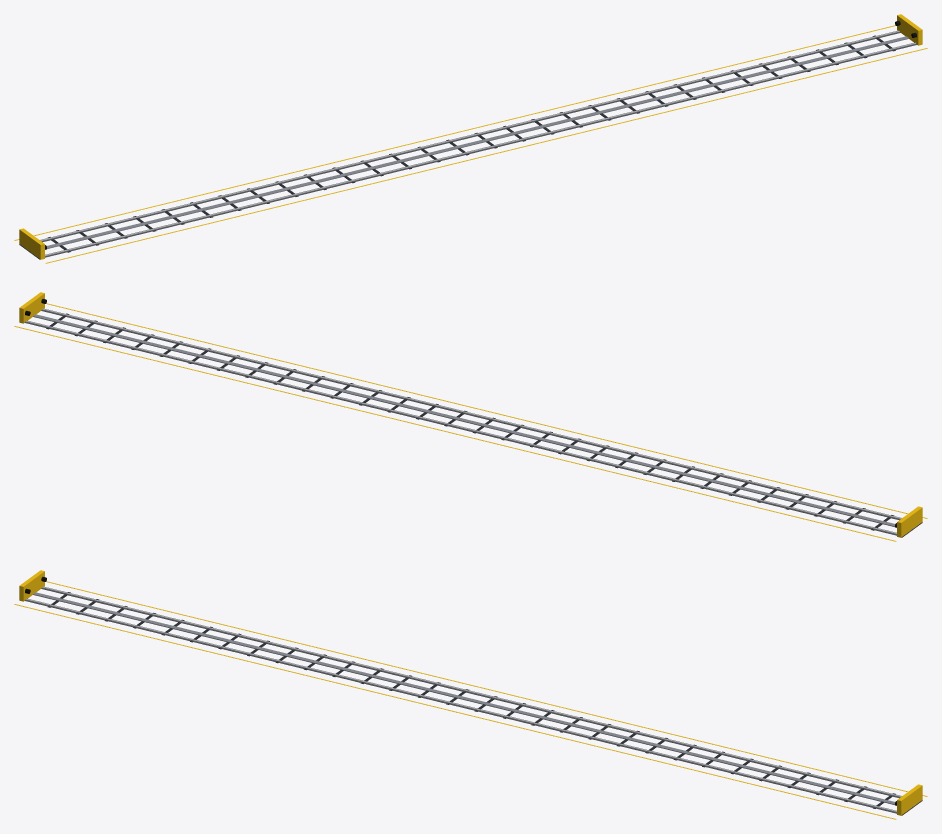
Rendered from transporter_track_31m_centred.glb.
3 views of the same model, one above another, from view 1: azimuth 30°, elevation 25°; view 2: azimuth 150°, elevation 25°; view 3: azimuth 330°, elevation 25° (orthographic).
Visible parts, largest first — view 1: track__steel_dark, track__yellow, track__steel, track__grey, track__dark; view 2: track__steel_dark, track__yellow, track__steel, track__grey, track__dark; view 3: track__steel_dark, track__yellow, track__steel, track__grey, track__dark.
Part boxes in pixels (x1,y1,x2,y2): track__steel_dark: (41, 30, 917, 257); track__yellow: (14, 14, 927, 263); track__steel: (21, 30, 915, 257); track__grey: (29, 36, 908, 251); track__dark: (19, 35, 895, 259); track__steel_dark: (24, 308, 900, 535); track__yellow: (14, 292, 927, 541); track__steel: (26, 308, 903, 535); track__grey: (33, 314, 913, 529); track__dark: (46, 313, 922, 537); track__steel_dark: (24, 586, 900, 813); track__yellow: (14, 570, 927, 819); track__steel: (26, 586, 903, 813); track__grey: (33, 592, 913, 807); track__dark: (48, 592, 922, 815).
Bounding box in the file's own units: 31.04 × 0.5 × 1.95.
